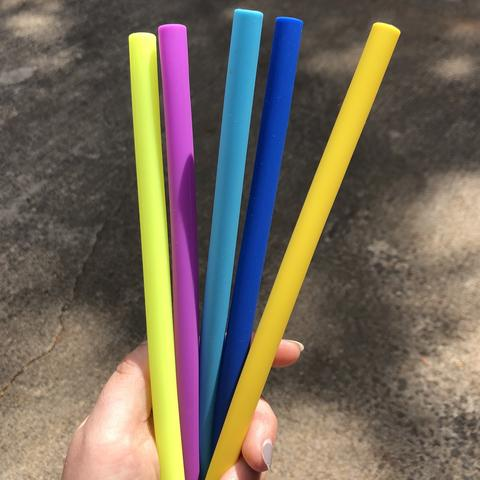Drinking Straw: (125, 30, 187, 480)
